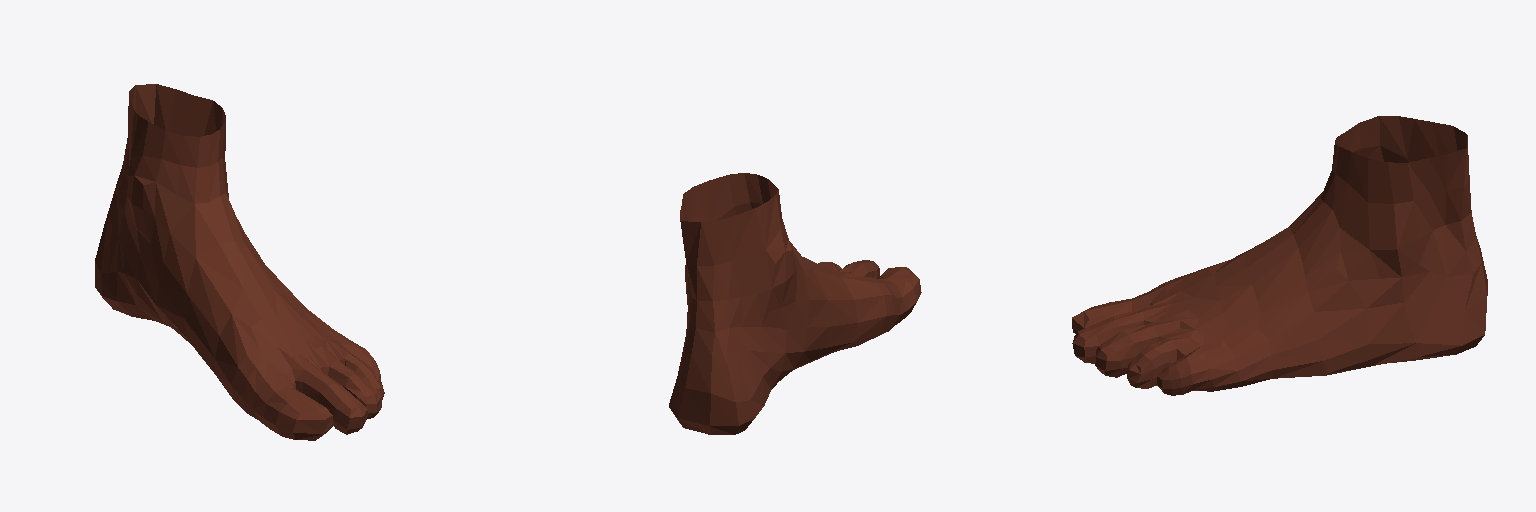
Rendered from 0_2_FootSmoothLeft.obj.
The picture shows the model from 3 angles: view 1: azimuth 30°, elevation 25°; view 2: azimuth 150°, elevation 25°; view 3: azimuth 270°, elevation 25°; orthographic projection.
Parts seen in each view (by area): view 1: polySurface1156; view 2: polySurface1156; view 3: polySurface1156.
Part boxes in pixels (x1,y1,x2,y2): polySurface1156: (95,84,384,440); polySurface1156: (669,173,921,434); polySurface1156: (1072,116,1487,395).
Bounding box in the file's own units: 0.0725 × 0.1078 × 0.1818.